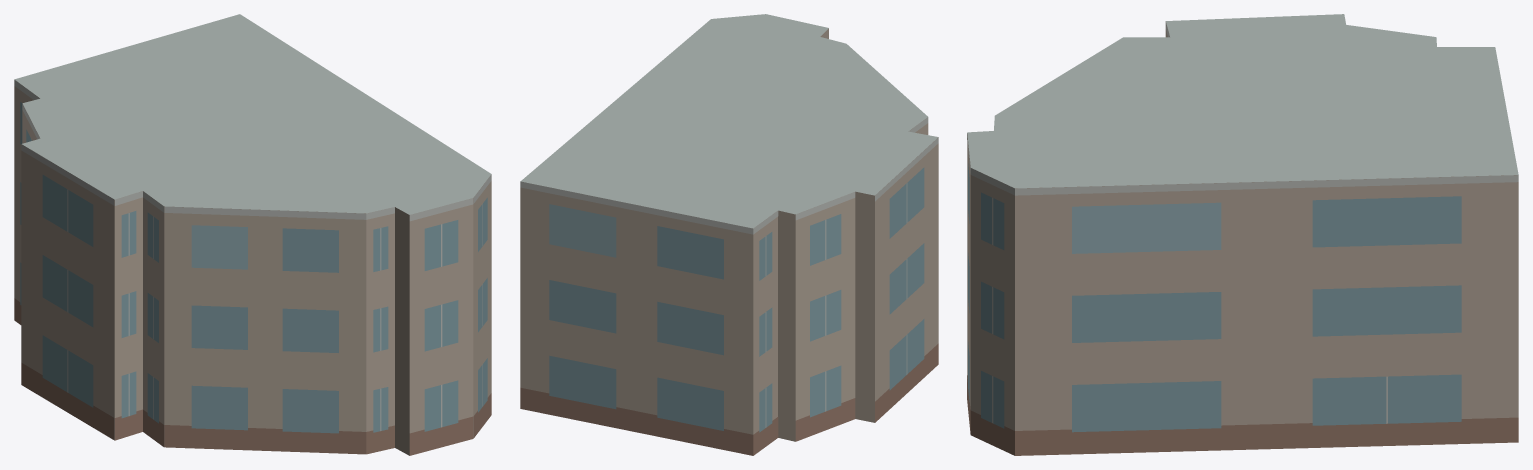
Rendered from survey-upis-32650017.glb.
3 renders of one model, left to right at view 1: azimuth 30°, elevation 25°; view 2: azimuth 150°, elevation 25°; view 3: azimuth 270°, elevation 25°, orthographic. The views are drawn at different scales.
Parts seen in each view (by area): view 1: survey-upis-32650017.tmp; view 2: survey-upis-32650017.tmp; view 3: survey-upis-32650017.tmp.
Boxes of the visible parts, x1,y1,x2,y2 form: survey-upis-32650017.tmp: (14,14,491,455); survey-upis-32650017.tmp: (520,14,938,455); survey-upis-32650017.tmp: (967,14,1518,455).
Bounding box in the file's own units: 12.81 × 9.15 × 17.11.
